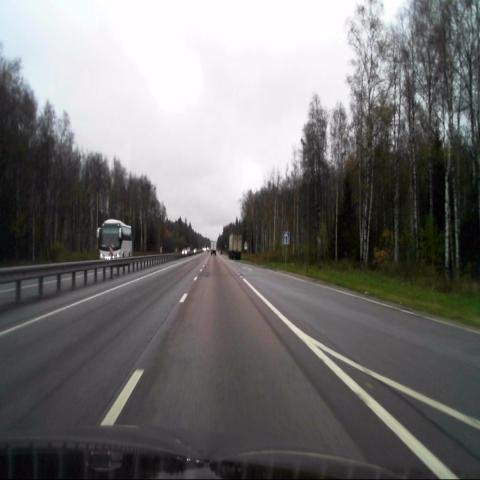5_15_5: (282, 231, 290, 244)
